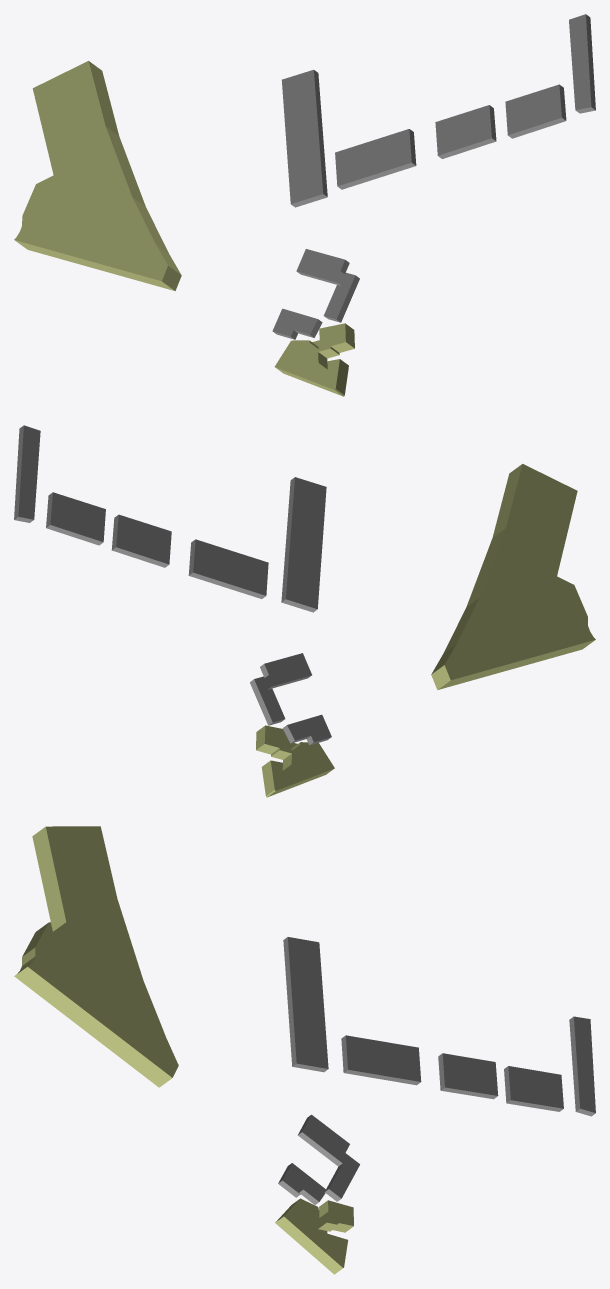
3 views of the same model, one above another, from view 1: azimuth 30°, elevation 25°; view 2: azimuth 150°, elevation 25°; view 3: azimuth 330°, elevation 25° (orthographic).
Visible parts, largest first — view 1: 0_1_0_0_1_3_2; view 2: 0_1_0_0_1_3_2; view 3: 0_1_0_0_1_3_2.
Part boxes in pixels (x1,y1,x2,y2): 0_1_0_0_1_3_2: (14, 14, 595, 396); 0_1_0_0_1_3_2: (14, 425, 595, 797); 0_1_0_0_1_3_2: (14, 826, 595, 1274).
Size of the model in its own units: 220 by 142 by 10.
